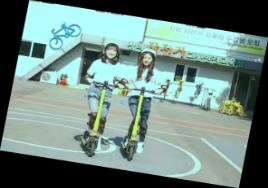helmet: (110, 45, 174, 165), (71, 38, 133, 160)
